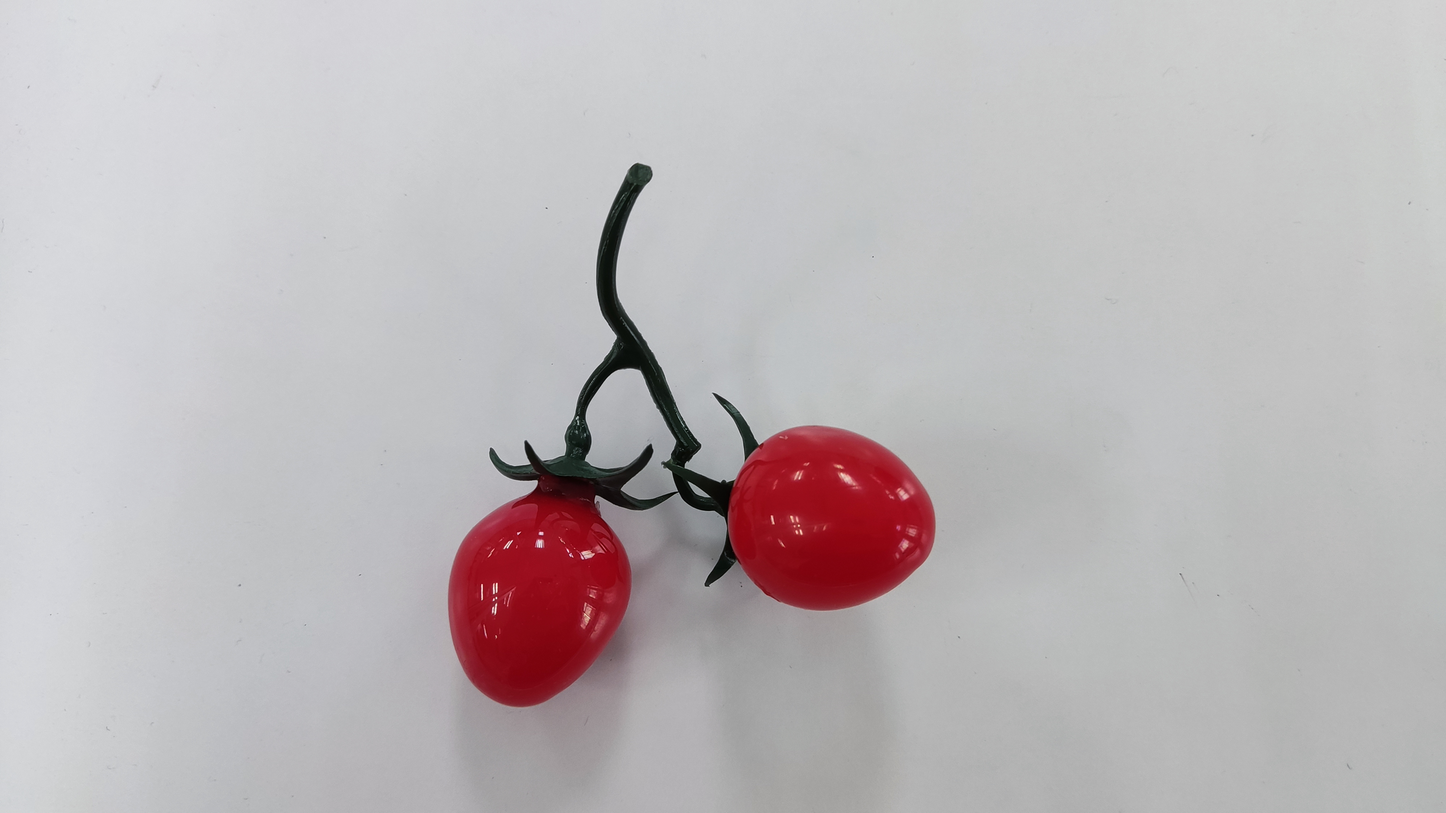peduncle: (596, 176, 645, 336)
strawberry: (448, 476, 630, 706), (728, 425, 936, 610)
